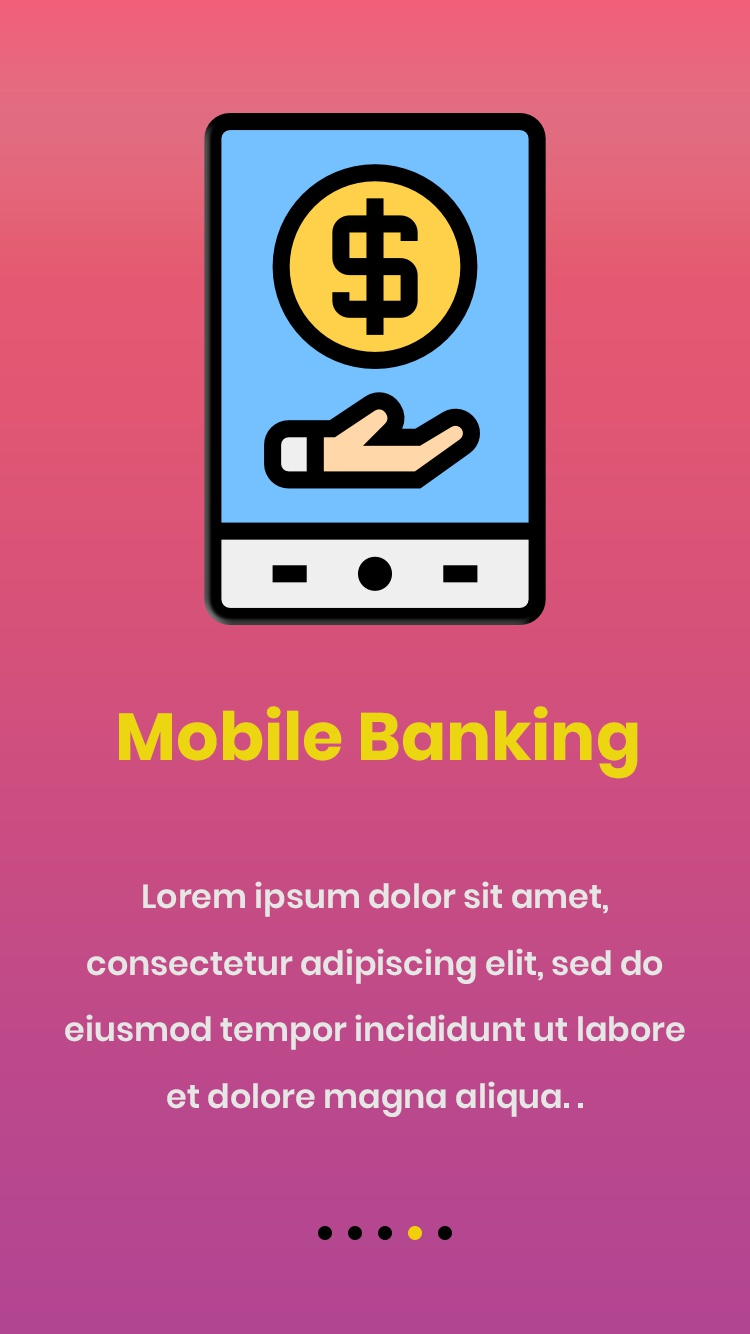Image: (204, 113, 547, 627)
PageIndicator: (316, 1223, 454, 1243)
Text: (65, 880, 686, 1119), (118, 705, 640, 781)
